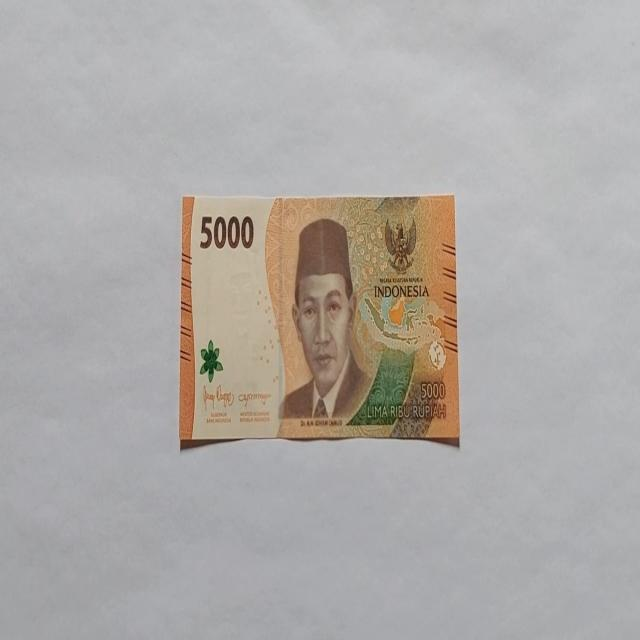lima ribu rupiah: (178, 192, 460, 448), (279, 217, 373, 423)
